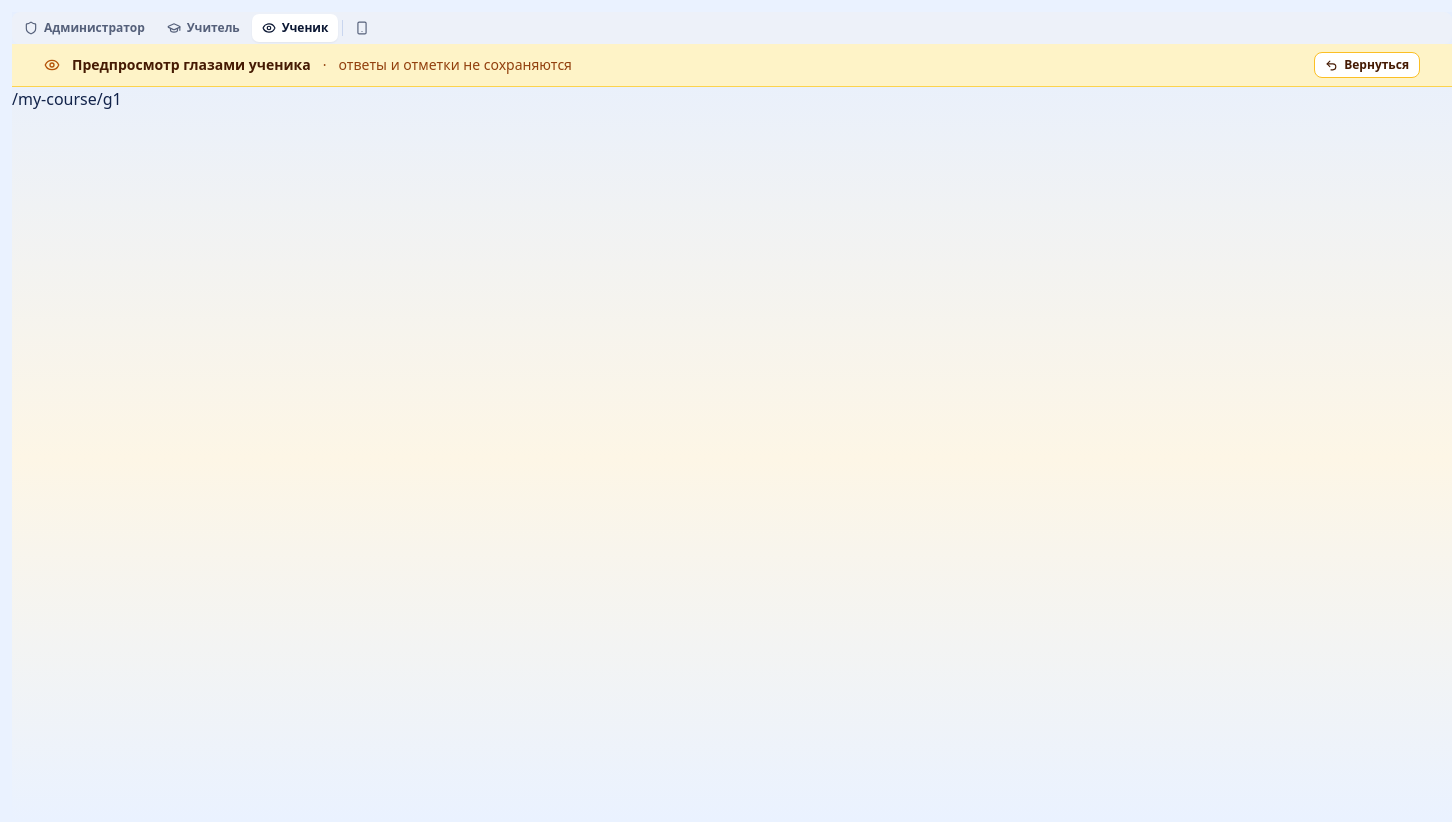
Test case: Переключатель с режимом «Ученик» (§178) › «Вернуться» на полосе возвращает в режим учителя и уводит на /dashboard
Expected: the message "Предпросмотр глазами ученика · ответы и отметки не сохраняются Вернуться" is shown, [12,44,1451,87]
Click the button with test id "student-preview-exit" at (1367, 65), box [1314,52,1420,78]
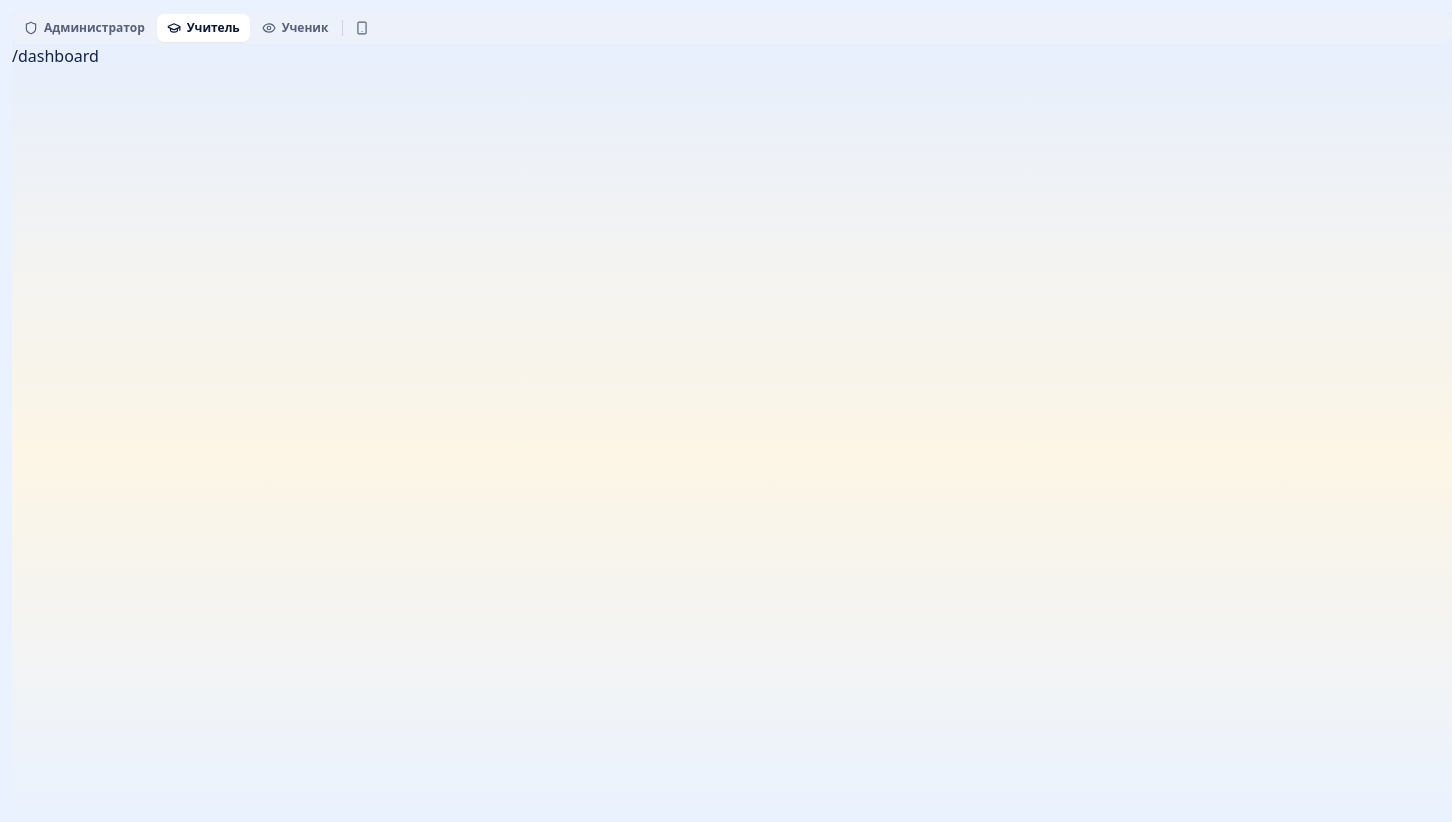
Now the message with test id "student-preview-banner" is gone
Now the text with test id "where" reads "/dashboard", box [12,45,99,67]
